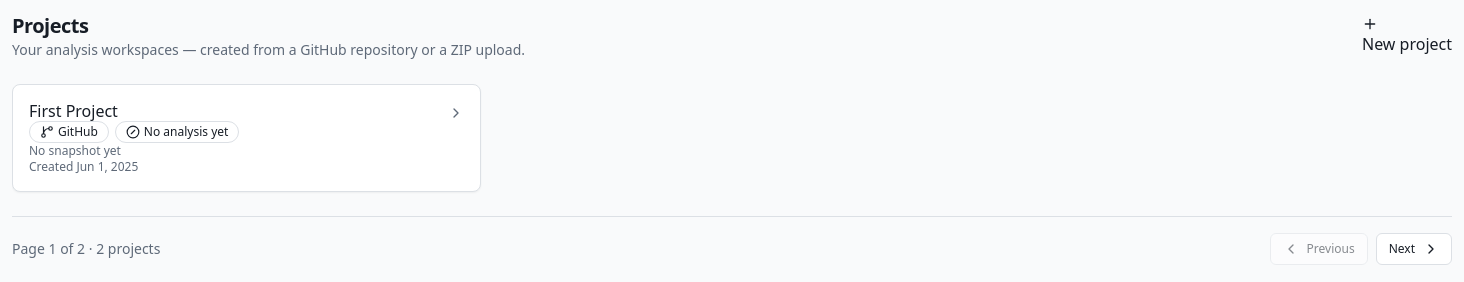
Test: projects dashboard › paginates projects through the backend
Expected: the heading "First Project" is shown, [29, 101, 118, 121]
Click the button "Next" at (1414, 249), box [1376, 233, 1452, 265]
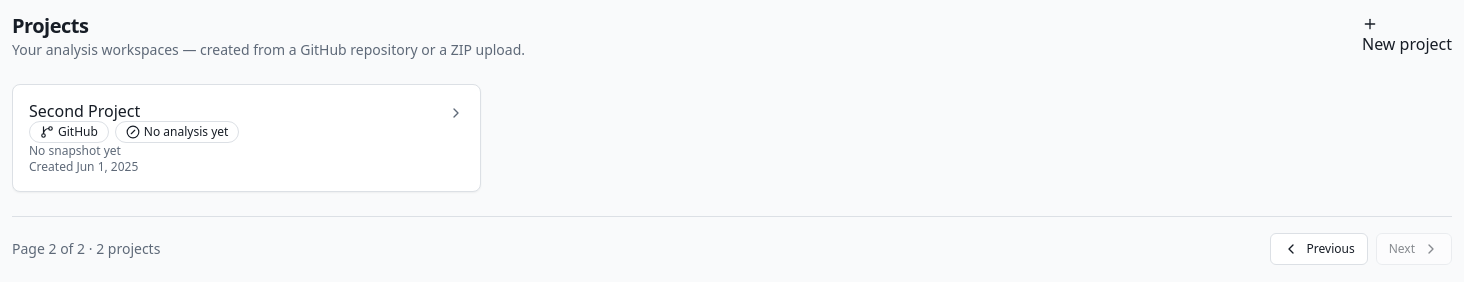
Expected: the heading "Second Project" is shown, [29, 101, 140, 121]
Expected: the text "Page 2 of 2 · 2 projects" is shown, [12, 239, 160, 259]
